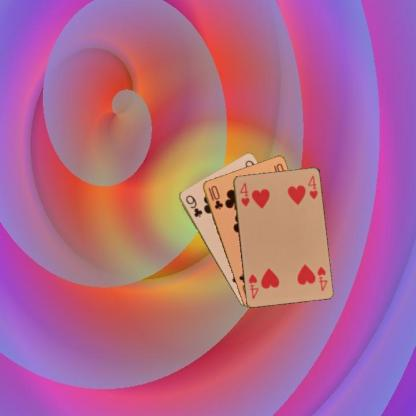10c: (206, 182, 224, 211)
4h: (314, 263, 328, 292), (237, 180, 250, 207)
9c: (182, 192, 204, 218)
